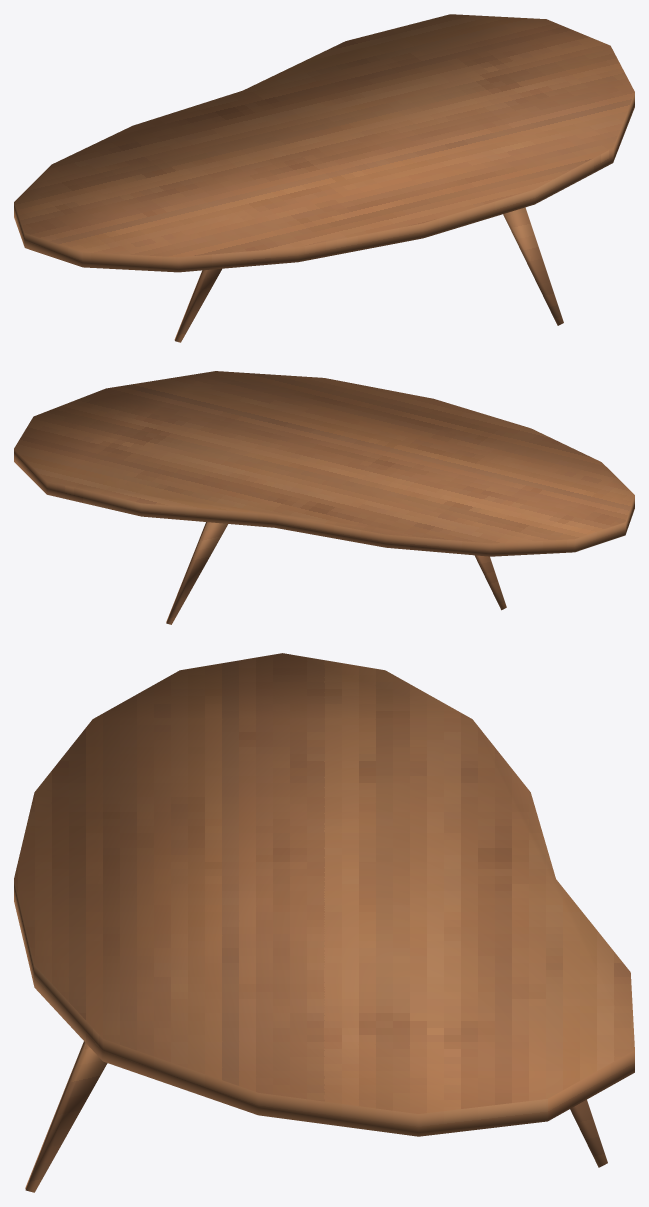
Rendered from table.glb.
3 renders of one model, top to bottom at view 1: azimuth 30°, elevation 25°; view 2: azimuth 150°, elevation 25°; view 3: azimuth 270°, elevation 25°, orthographic. The views are drawn at different scales.
Visible parts, largest first — view 1: Table-col; view 2: Table-col; view 3: Table-col.
Part boxes in pixels (left/top/right/bottom): Table-col: left=14, top=14, right=634, bottom=342; Table-col: left=14, top=371, right=634, bottom=624; Table-col: left=14, top=653, right=634, bottom=1192.
Size of the model in its own units: 3.66 by 0.7792 by 2.08.
1 material, 1 textured.
